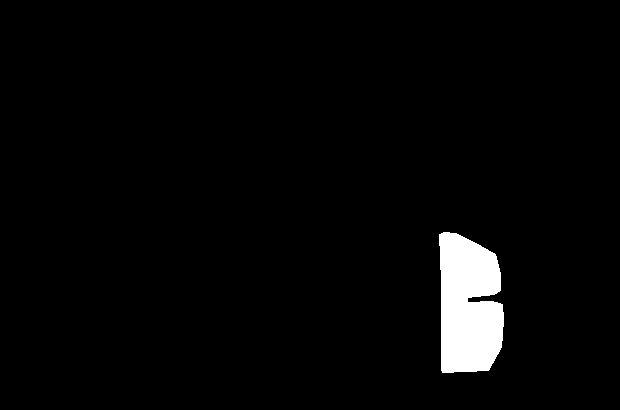type5: (433, 227, 505, 374)
